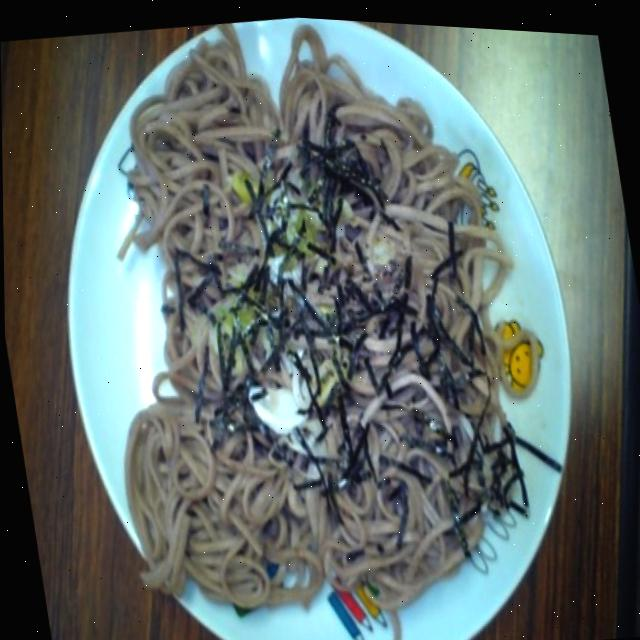面条主食: (58, 3, 572, 640)
